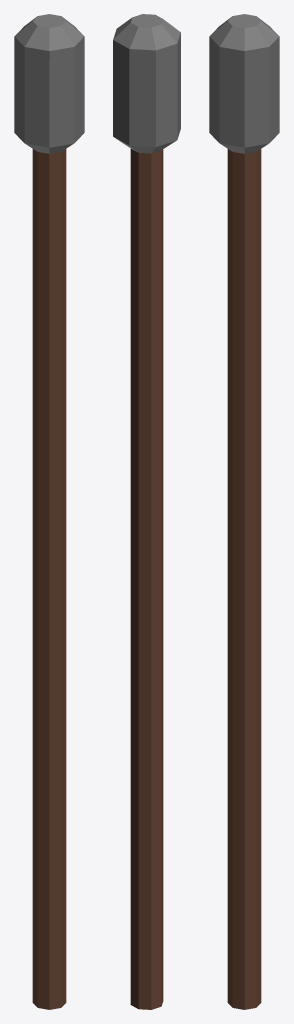
The model's file is torchTall.fbx.
3 renders of one model, left to right at view 1: azimuth 90°, elevation 25°; view 2: azimuth 150°, elevation 25°; view 3: azimuth 270°, elevation 25°, orthographic.
Parts seen in each view (by area): view 1: torchTall; view 2: torchTall; view 3: torchTall.
Boxes of the visible parts, left/top/right/bottom form: torchTall: left=14, top=14, right=84, bottom=1009; torchTall: left=113, top=14, right=180, bottom=1009; torchTall: left=209, top=14, right=279, bottom=1009.
Size of the model in its own units: 12.49 by 193 by 12.49.
